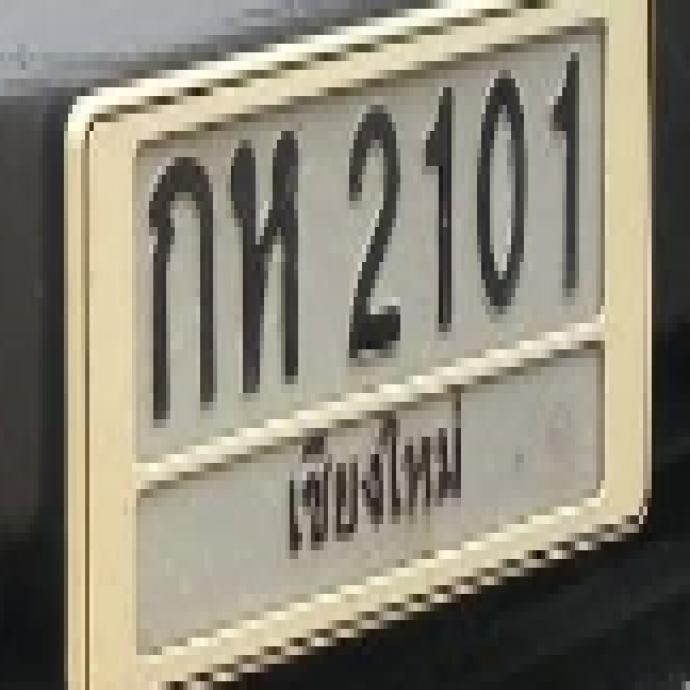0: (474, 66, 523, 306)
1: (422, 80, 451, 328), (548, 46, 577, 291)
2: (345, 101, 398, 353)
A01: (146, 148, 211, 411)
A41: (228, 125, 295, 385)
CMI: (274, 395, 475, 553)
